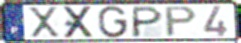4: (202, 4, 229, 39)
G: (98, 5, 129, 40)
P: (164, 5, 199, 39), (130, 5, 165, 38)
X: (62, 5, 96, 39), (27, 6, 62, 39)
